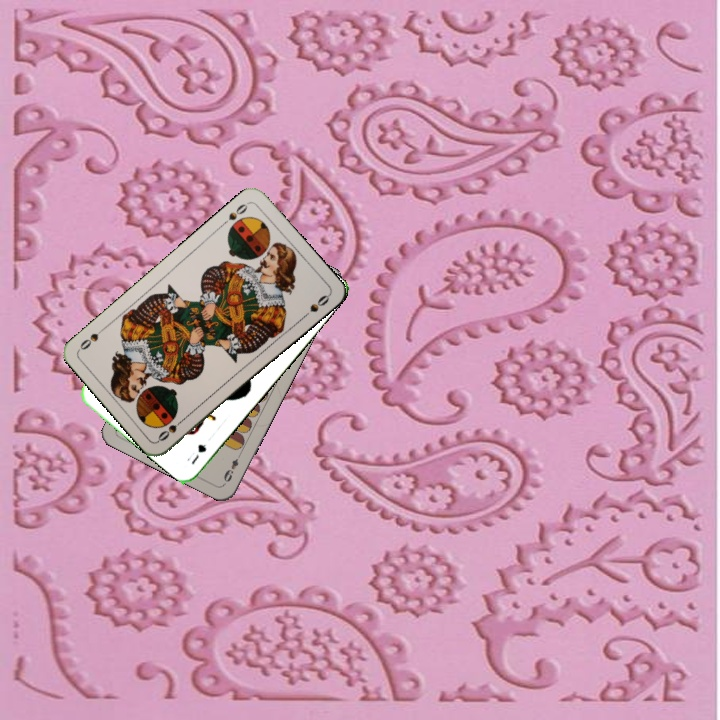E9: (219, 448, 244, 486)
GU: (187, 440, 209, 467)
SO: (154, 413, 188, 444), (217, 199, 252, 229)
